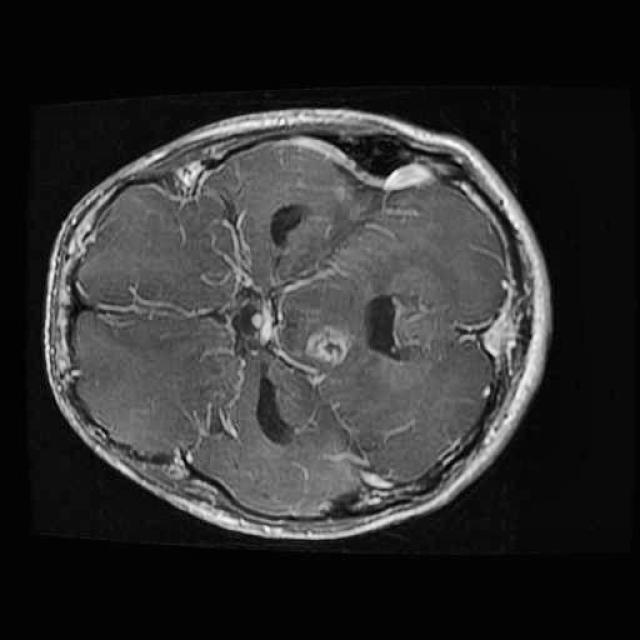Tumor: (292, 310, 368, 376)
